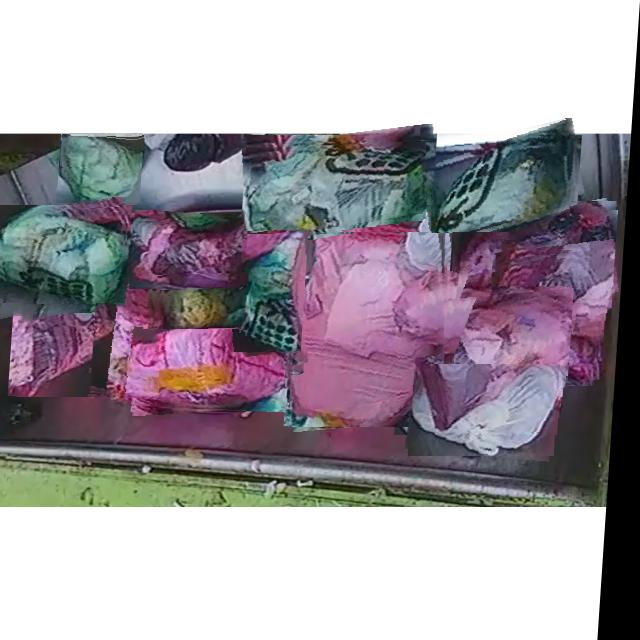general_trashbag: (248, 144, 440, 231), (438, 119, 576, 232), (0, 209, 129, 303), (247, 230, 307, 352), (63, 135, 142, 200), (162, 274, 254, 329)
other_trashbag: (296, 218, 449, 426), (407, 291, 576, 423), (462, 201, 619, 312), (493, 256, 603, 386), (417, 364, 563, 456), (139, 326, 299, 409), (25, 287, 122, 396), (136, 218, 252, 289), (97, 282, 163, 395)
